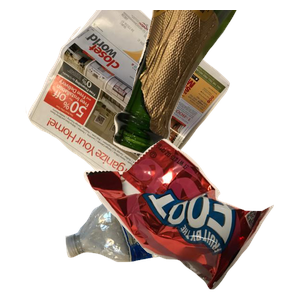glass: (111, 10, 300, 158)
paper: (23, 10, 245, 190)
plastic: (63, 170, 278, 300)
trash: (81, 136, 300, 300)
